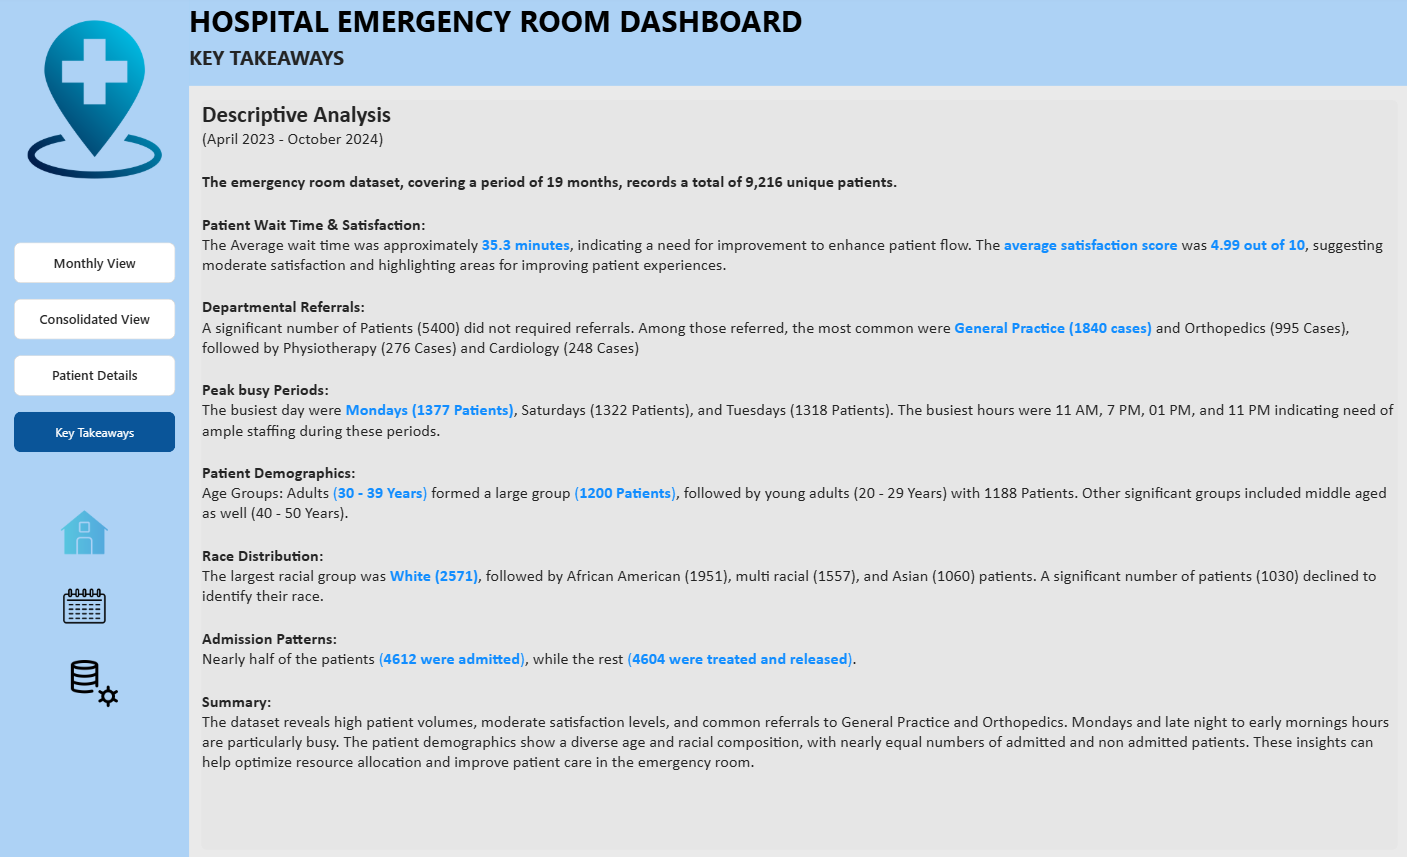

Layout of this report page (visuals, bound fields, positions):
{"tool":"powerbi","page":{"name":"Key Takeaways","canvas":[2300,1400],"ordinal":3},"visuals":[{"type":"shape","box":[0,0,310,1400.4],"z":0},{"type":"shape","box":[310,0,1989.6,140],"z":1000},{"type":"textbox","box":[310,0,1031.1,66],"z":2000},{"type":"textbox","box":[310,70.4,386.9,50.6],"z":3000},{"type":"image","box":[0,33.2,312.7,259.2],"z":4000},{"type":"image","box":[90.1,949,98.9,76.9],"z":5000},{"type":"image","box":[105.5,1077.3,98.9,76.9],"z":6000},{"type":"image","box":[90.1,828.8,98.9,76.9],"z":7000},{"type":"textbox","box":[329.8,162.7,1950.1,1222.4],"z":8000},{"type":"pageNavigator","box":[24.2,395.7,263.8,342.5],"z":9000}]}

Visuals, with their boxes on the page's 2300x1400 design canvas (x1, y1, x2, y2). These are canvas units, not pixel positions in the 1407x857 screenshot, which may show the page scaled, cropped or inside an application window:
shape: 0:0:310:1400
shape: 310:0:2300:140
textbox: 310:0:1341:66
textbox: 310:70:697:121
image: 0:33:313:292
image: 90:949:189:1026
image: 106:1077:204:1154
image: 90:829:189:906
textbox: 330:163:2280:1385
pageNavigator: 24:396:288:738
